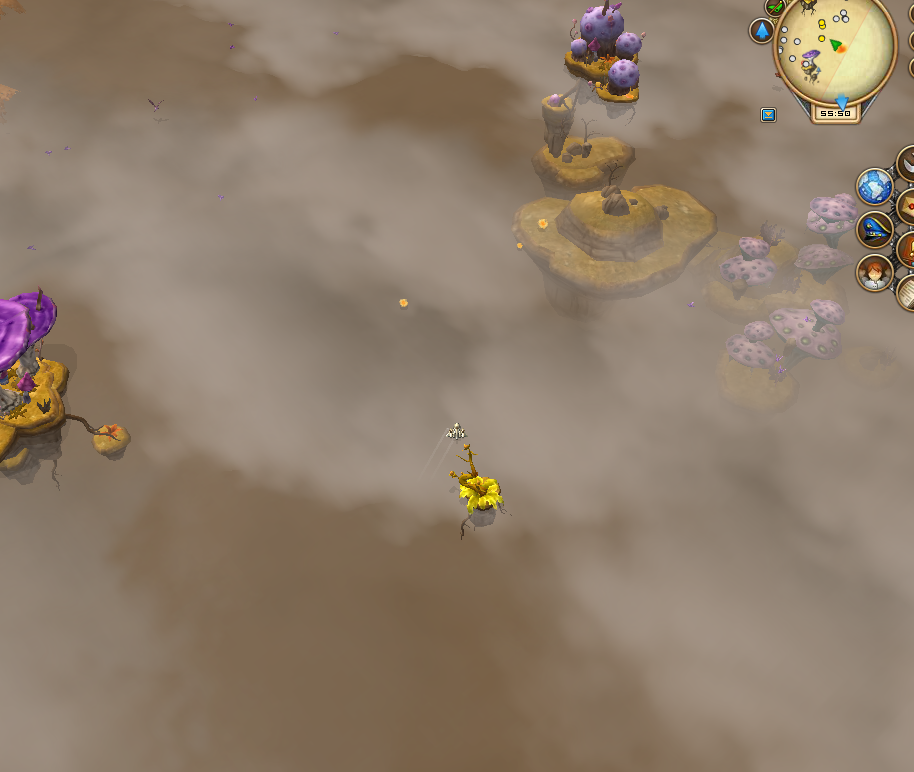dandelion-empty: (447, 438, 511, 536)
fluff: (537, 210, 549, 238), (393, 296, 409, 311), (511, 239, 526, 252)
